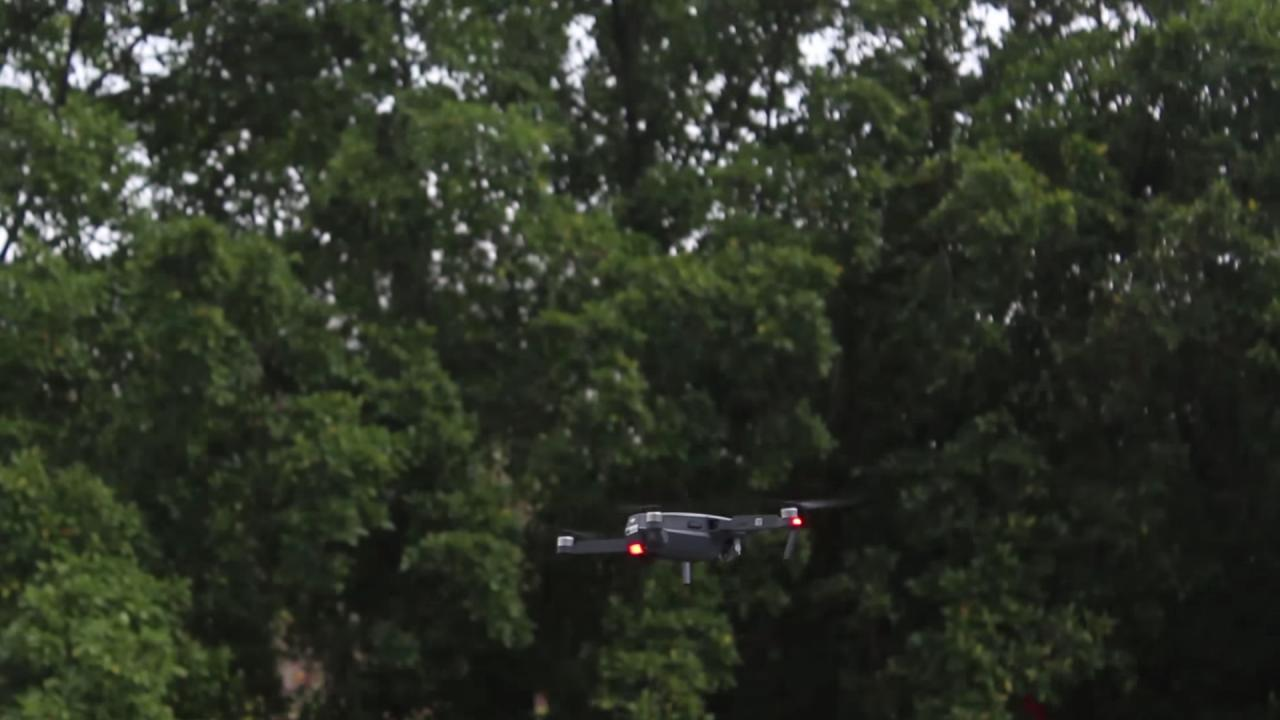Drone: (534, 478, 862, 594)
